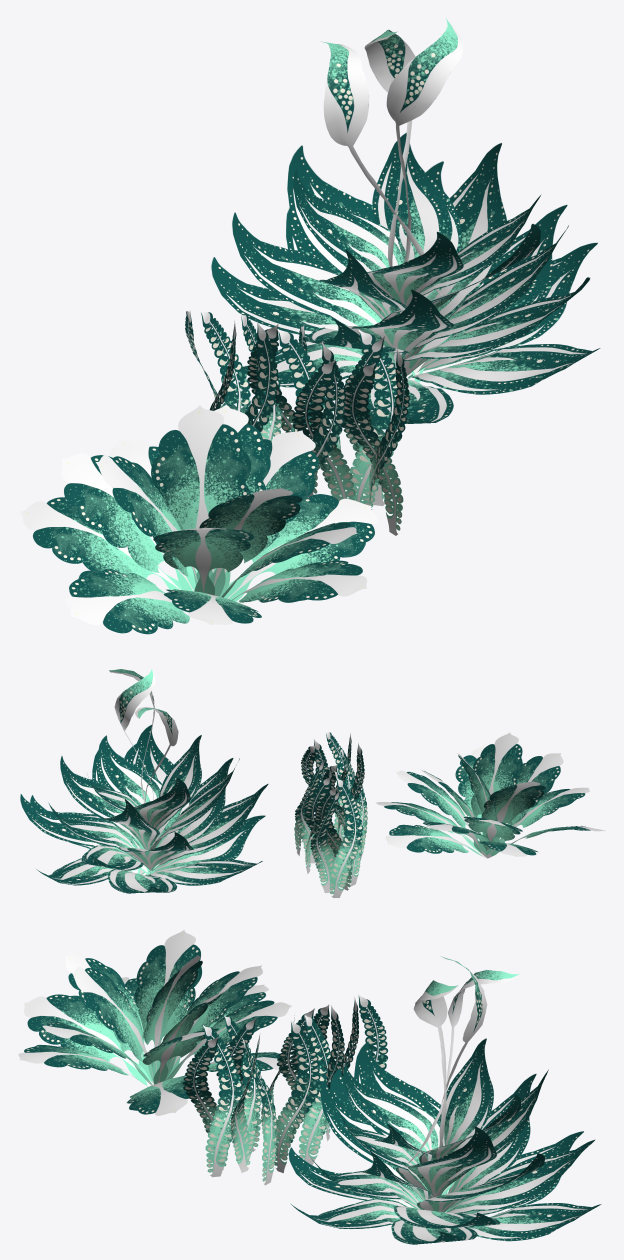
3 views of the same model, one above another, from view 1: azimuth 30°, elevation 25°; view 2: azimuth 150°, elevation 25°; view 3: azimuth 270°, elevation 25° (orthographic). The views are drawn at different scales.
Parts seen in each view (by area): view 1: Plant-1, Plant-3, Plant-2; view 2: Plant-1, Plant-3, Plant-2; view 3: Plant-1, Plant-3, Plant-2.
Part boxes in pixels (x1=…): Plant-1: x1=211, y1=17, x2=600, y2=423; Plant-3: x1=20, y1=404, x2=377, y2=634; Plant-2: x1=185, y1=310, x2=409, y2=539; Plant-1: x1=20, y1=668, x2=268, y2=893; Plant-3: x1=375, y1=732, x2=605, y2=858; Plant-2: x1=294, y1=732, x2=367, y2=897; Plant-1: x1=288, y1=956, x2=601, y2=1244; Plant-3: x1=18, y1=930, x2=292, y2=1115; Plant-2: x1=182, y1=994, x2=387, y2=1185.
Size of the model in its own units: 2.34 by 1.08 by 2.08.
1 material, 1 textured.
